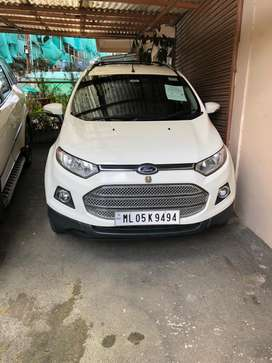ML05K9494: (115, 210, 179, 226)
